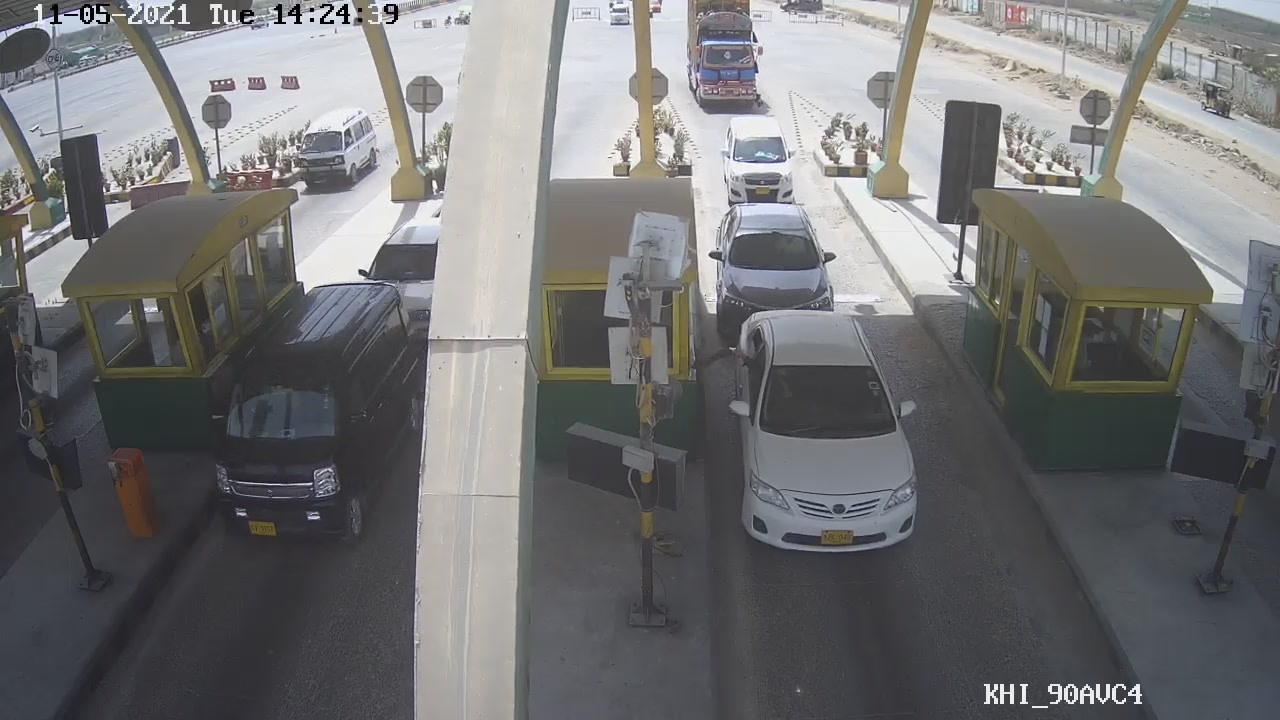F1: (728, 309, 923, 558)
